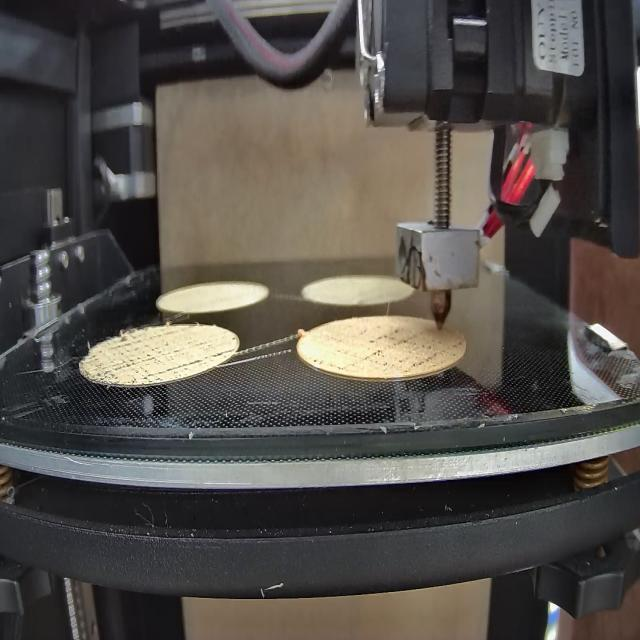under_extrusion: (80, 332, 207, 384), (353, 318, 462, 374), (310, 342, 335, 378), (212, 340, 238, 363)
